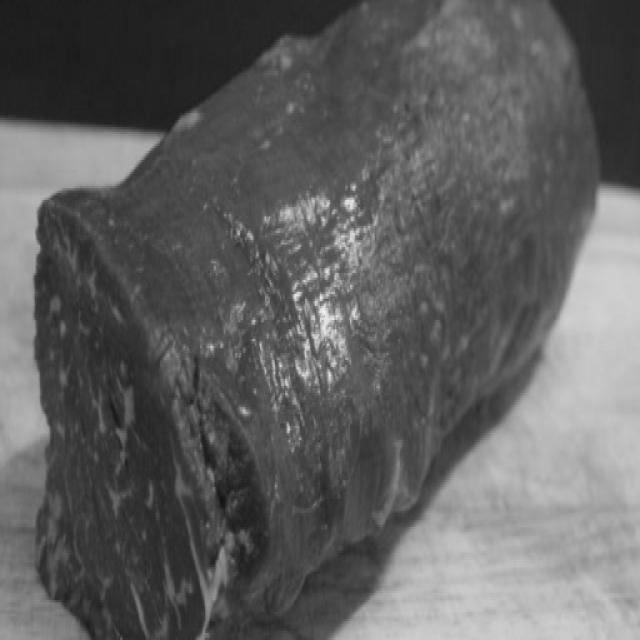filet: (36, 12, 602, 588)
